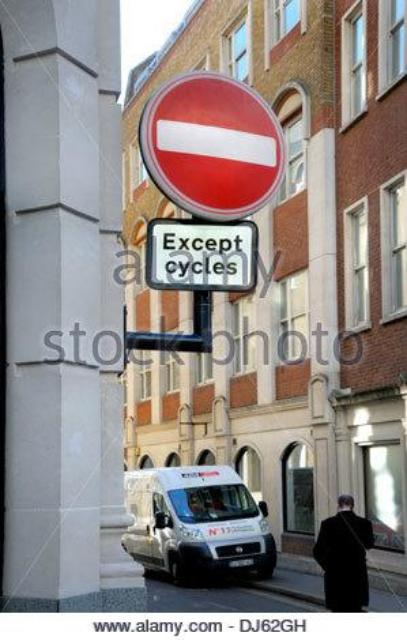B2: (136, 70, 288, 220)
